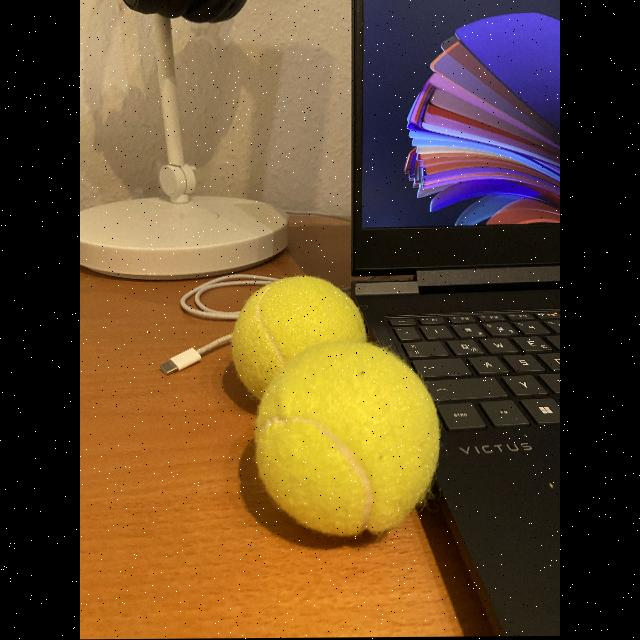Tennisball: (254, 340, 440, 537), (232, 276, 367, 399)
